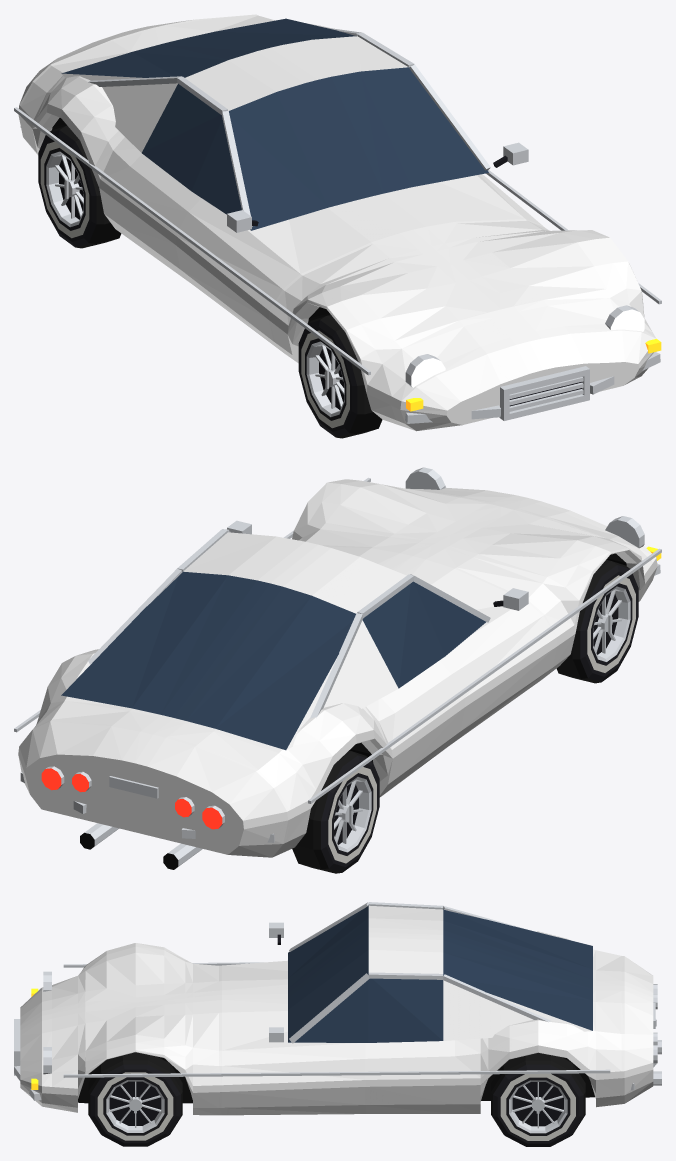
File: classic.glb
3 renders of one model, top to bottom at view 1: azimuth 30°, elevation 25°; view 2: azimuth 150°, elevation 25°; view 3: azimuth 270°, elevation 25°, orthographic. The views are drawn at different scales.
Parts seen in each view (by area): view 1: paint, glass, stripe_a, chrome (×3), tire_side (×2), stripe_b, tire (×2), tire_whitewall (×2), headlight; view 2: paint, glass, chrome (×3), stripe_a, tire_side (×2), stripe_b, tire (×2), tire_whitewall (×2), taillight, trim_under; view 3: paint, glass, chrome (×3), stripe_a, tire_side (×2), stripe_b, trim (×2), tire (×2), tire_whitewall (×2), trim_under.
Part boxes in pixels (x1,y1,x2,y2): paint: (18,14,656,431); glass: (61,18,488,230); stripe_a: (94,19,584,383); chrome (×3): (14,27,661,423); tire_side (×2): (38,130,357,437); stripe_b: (19,104,652,415); tire (×2): (50,125,382,438); tire_whitewall (×2): (40,141,349,428); headlight: (411,309,644,387); paint: (18,479,657,857); glass: (61,571,485,750); chrome (×3): (14,467,661,868); stripe_a: (93,490,570,776); tire_side (×2): (321,565,638,872); stripe_b: (18,548,657,829); tire (×2): (292,559,629,873); tire_whitewall (×2): (328,575,635,863); taillight: (41,768,222,829); trim_under: (80,553,626,869); paint: (20,905,653,1115); glass: (288,905,592,1042); chrome (×3): (14,902,661,1133); stripe_a: (20,918,653,1048); tire_side (×2): (90,1064,583,1146); stripe_b: (20,1045,653,1095); trim (×2): (109,1081,563,1126); tire (×2): (88,1052,585,1135); tire_whitewall (×2): (97,1072,575,1140); trim_under: (78,1056,594,1103).
Bounding box in the file's own units: 1.85 × 1.25 × 4.5.
